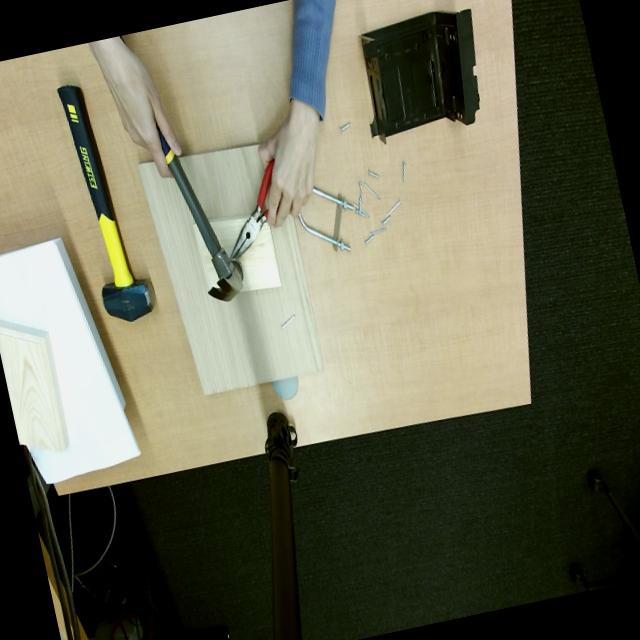hammer: (58, 85, 155, 321), (158, 127, 243, 300)
pliers: (230, 160, 273, 260)
